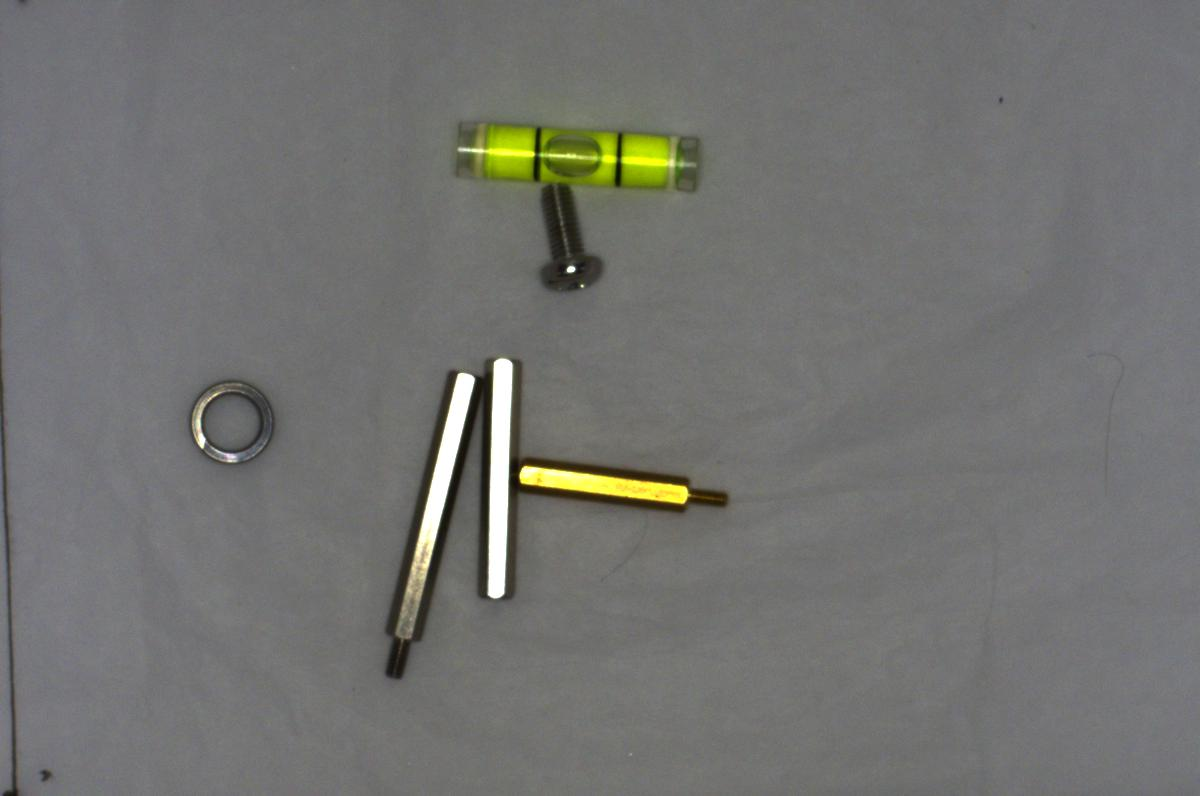Double hexagonal column: (477, 343, 525, 606)
Hexagon pillar: (511, 452, 732, 519)
Hexagonal steel column: (370, 368, 480, 686)
Horizontal bubble: (442, 110, 712, 199)
Round head screw: (526, 180, 611, 301)
Spring washer: (180, 375, 278, 476)
